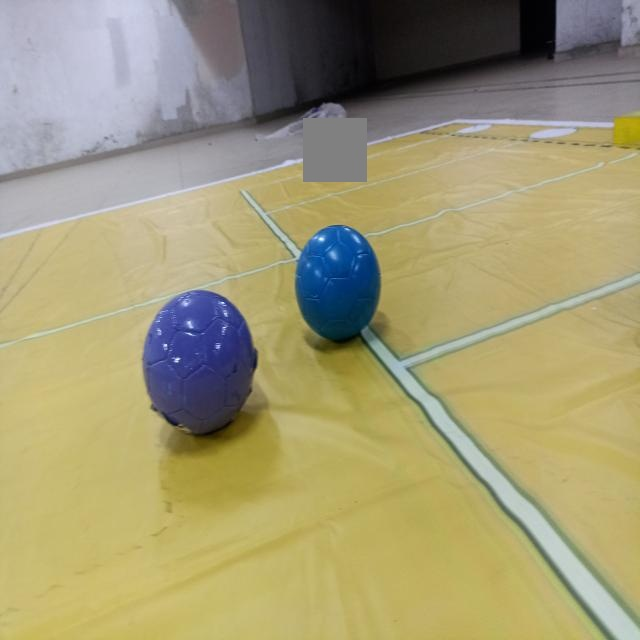purple_ball: (151, 297, 247, 432), (301, 224, 375, 338)
